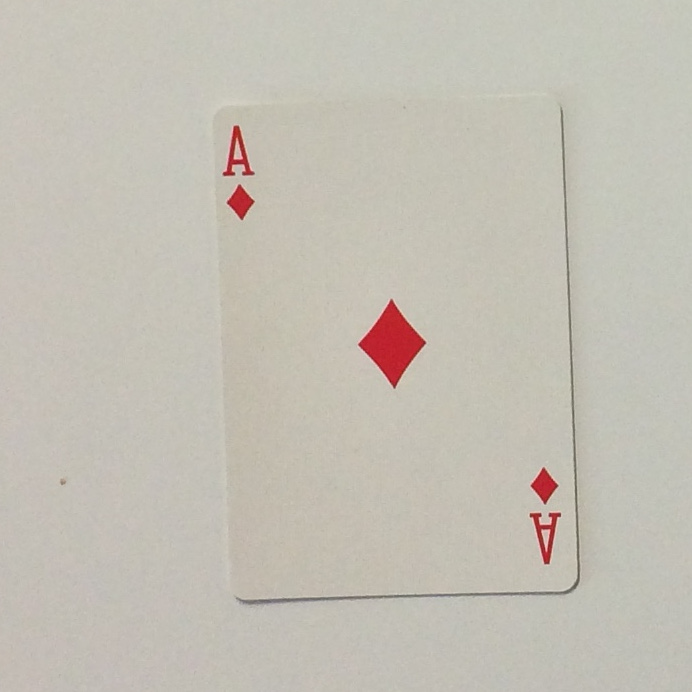A: (214, 118, 267, 182)
D: (219, 179, 266, 228)
